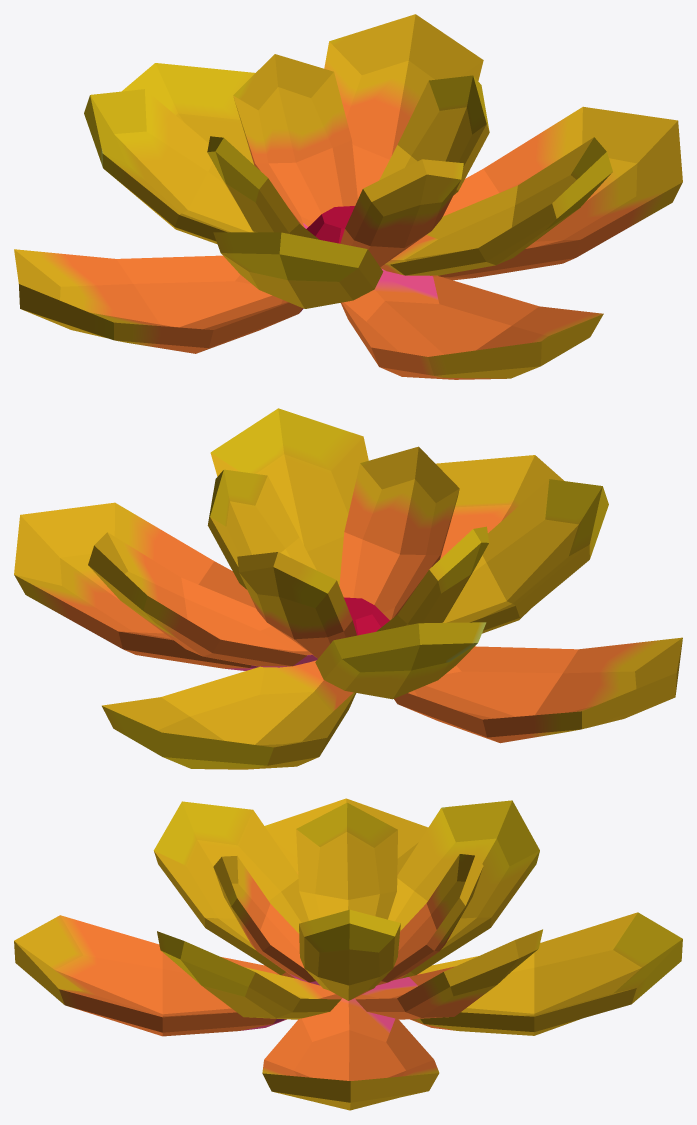
Rendered from Flower_2.fbx.
The picture shows the model from 3 angles, top to bottom: view 1: azimuth 30°, elevation 25°; view 2: azimuth 150°, elevation 25°; view 3: azimuth 270°, elevation 25°; orthographic projection. The views are drawn at different scales.
Parts seen in each view (by area): view 1: Flower_2; view 2: Flower_2; view 3: Flower_2.
Boxes of the visible parts, left/top/right/bottom form: Flower_2: left=14, top=14, right=682, bottom=379; Flower_2: left=14, top=408, right=682, bottom=769; Flower_2: left=14, top=798, right=682, bottom=1110.
Size of the model in its own units: 36.92 by 10.46 by 36.92.
